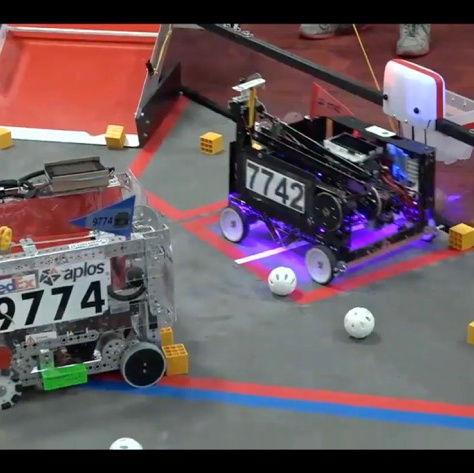robot: (214, 72, 441, 288), (0, 152, 177, 411)
